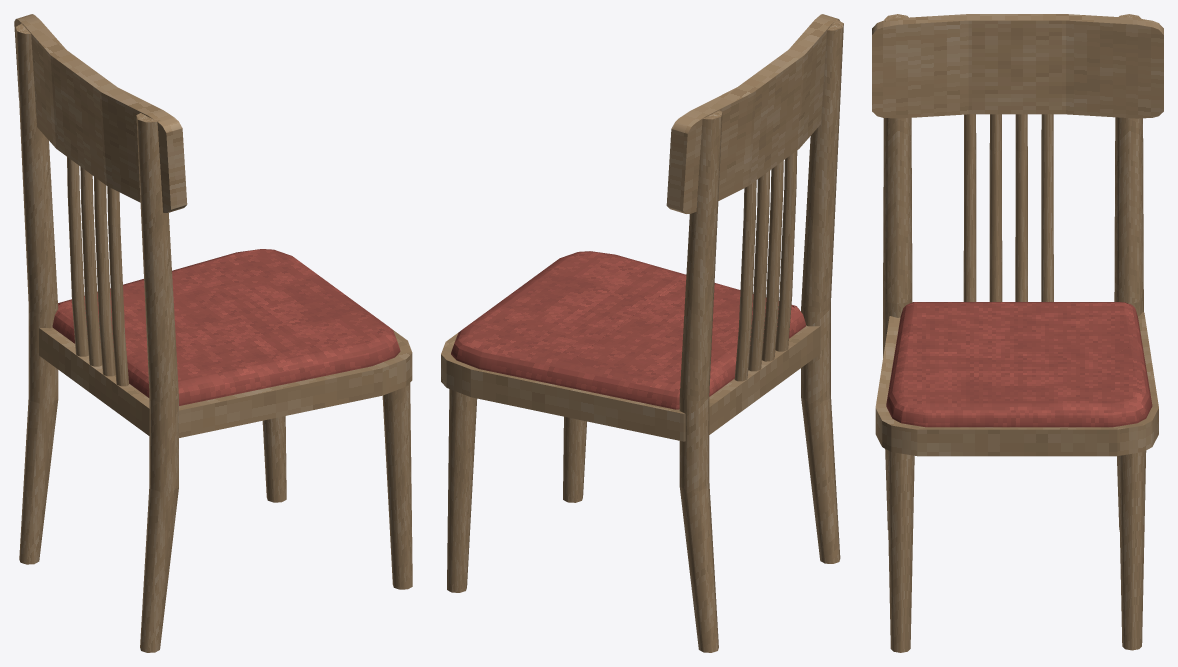
Rendered from chair.fbx.
3 views of the same model, side by side, from view 1: azimuth 30°, elevation 25°; view 2: azimuth 150°, elevation 25°; view 3: azimuth 270°, elevation 25° (orthographic). The views are drawn at different scales.
Visible parts, largest first — view 1: Cube.016, Cylinder.021, Plane.054, Cylinder.022, Cylinder.023, Cylinder.025, Cylinder.024; view 2: Cube.016, Plane.054, Cylinder.022, Cylinder.021, Cylinder.023, Cylinder.024, Cylinder.025; view 3: Cube.016, Plane.054, Cylinder.023, Cylinder.021, Cylinder.022, Cylinder.025, Cylinder.024.
Part boxes in pixels (<box>): Cube.016: <box>39,249,412,437</box>; Cylinder.021: <box>136,113,178,652</box>; Plane.054: <box>14,14,187,212</box>; Cylinder.022: <box>15,23,58,564</box>; Cylinder.023: <box>67,157,129,386</box>; Cylinder.025: <box>382,383,412,589</box>; Cylinder.024: <box>262,416,286,502</box>; Cube.016: <box>441,251,820,441</box>; Plane.054: <box>666,14,839,213</box>; Cylinder.022: <box>679,110,722,652</box>; Cylinder.021: <box>801,19,843,563</box>; Cylinder.023: <box>734,150,797,381</box>; Cylinder.024: <box>447,389,477,592</box>; Cylinder.025: <box>563,416,586,502</box>; Cube.016: <box>875,302,1158,456</box>; Plane.054: <box>872,14,1163,118</box>; Cylinder.023: <box>963,114,1053,301</box>; Cylinder.021: <box>883,14,912,529</box>; Cylinder.022: <box>1114,14,1143,529</box>; Cylinder.025: <box>886,450,914,652</box>; Cylinder.024: <box>1118,450,1146,650</box>.
Size of the model in its own units: 213 by 387 by 200.
